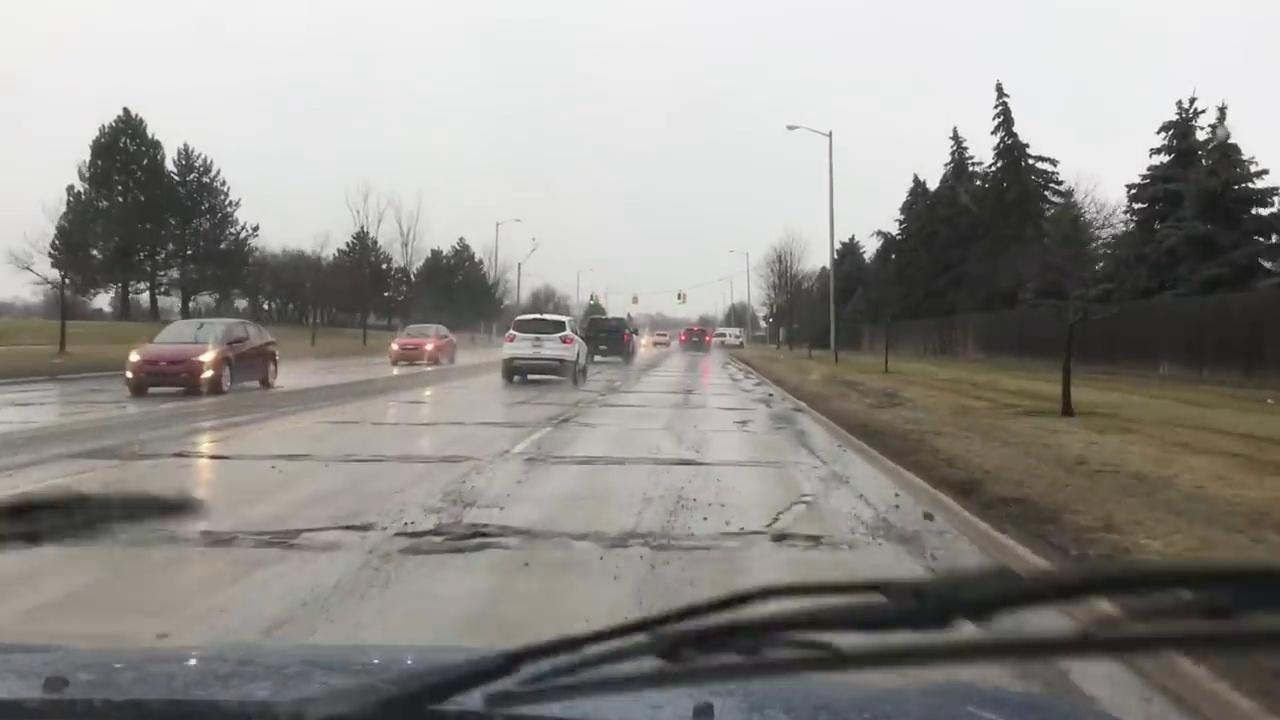pothole: (393, 519, 564, 556), (202, 521, 377, 548), (572, 530, 670, 549)
